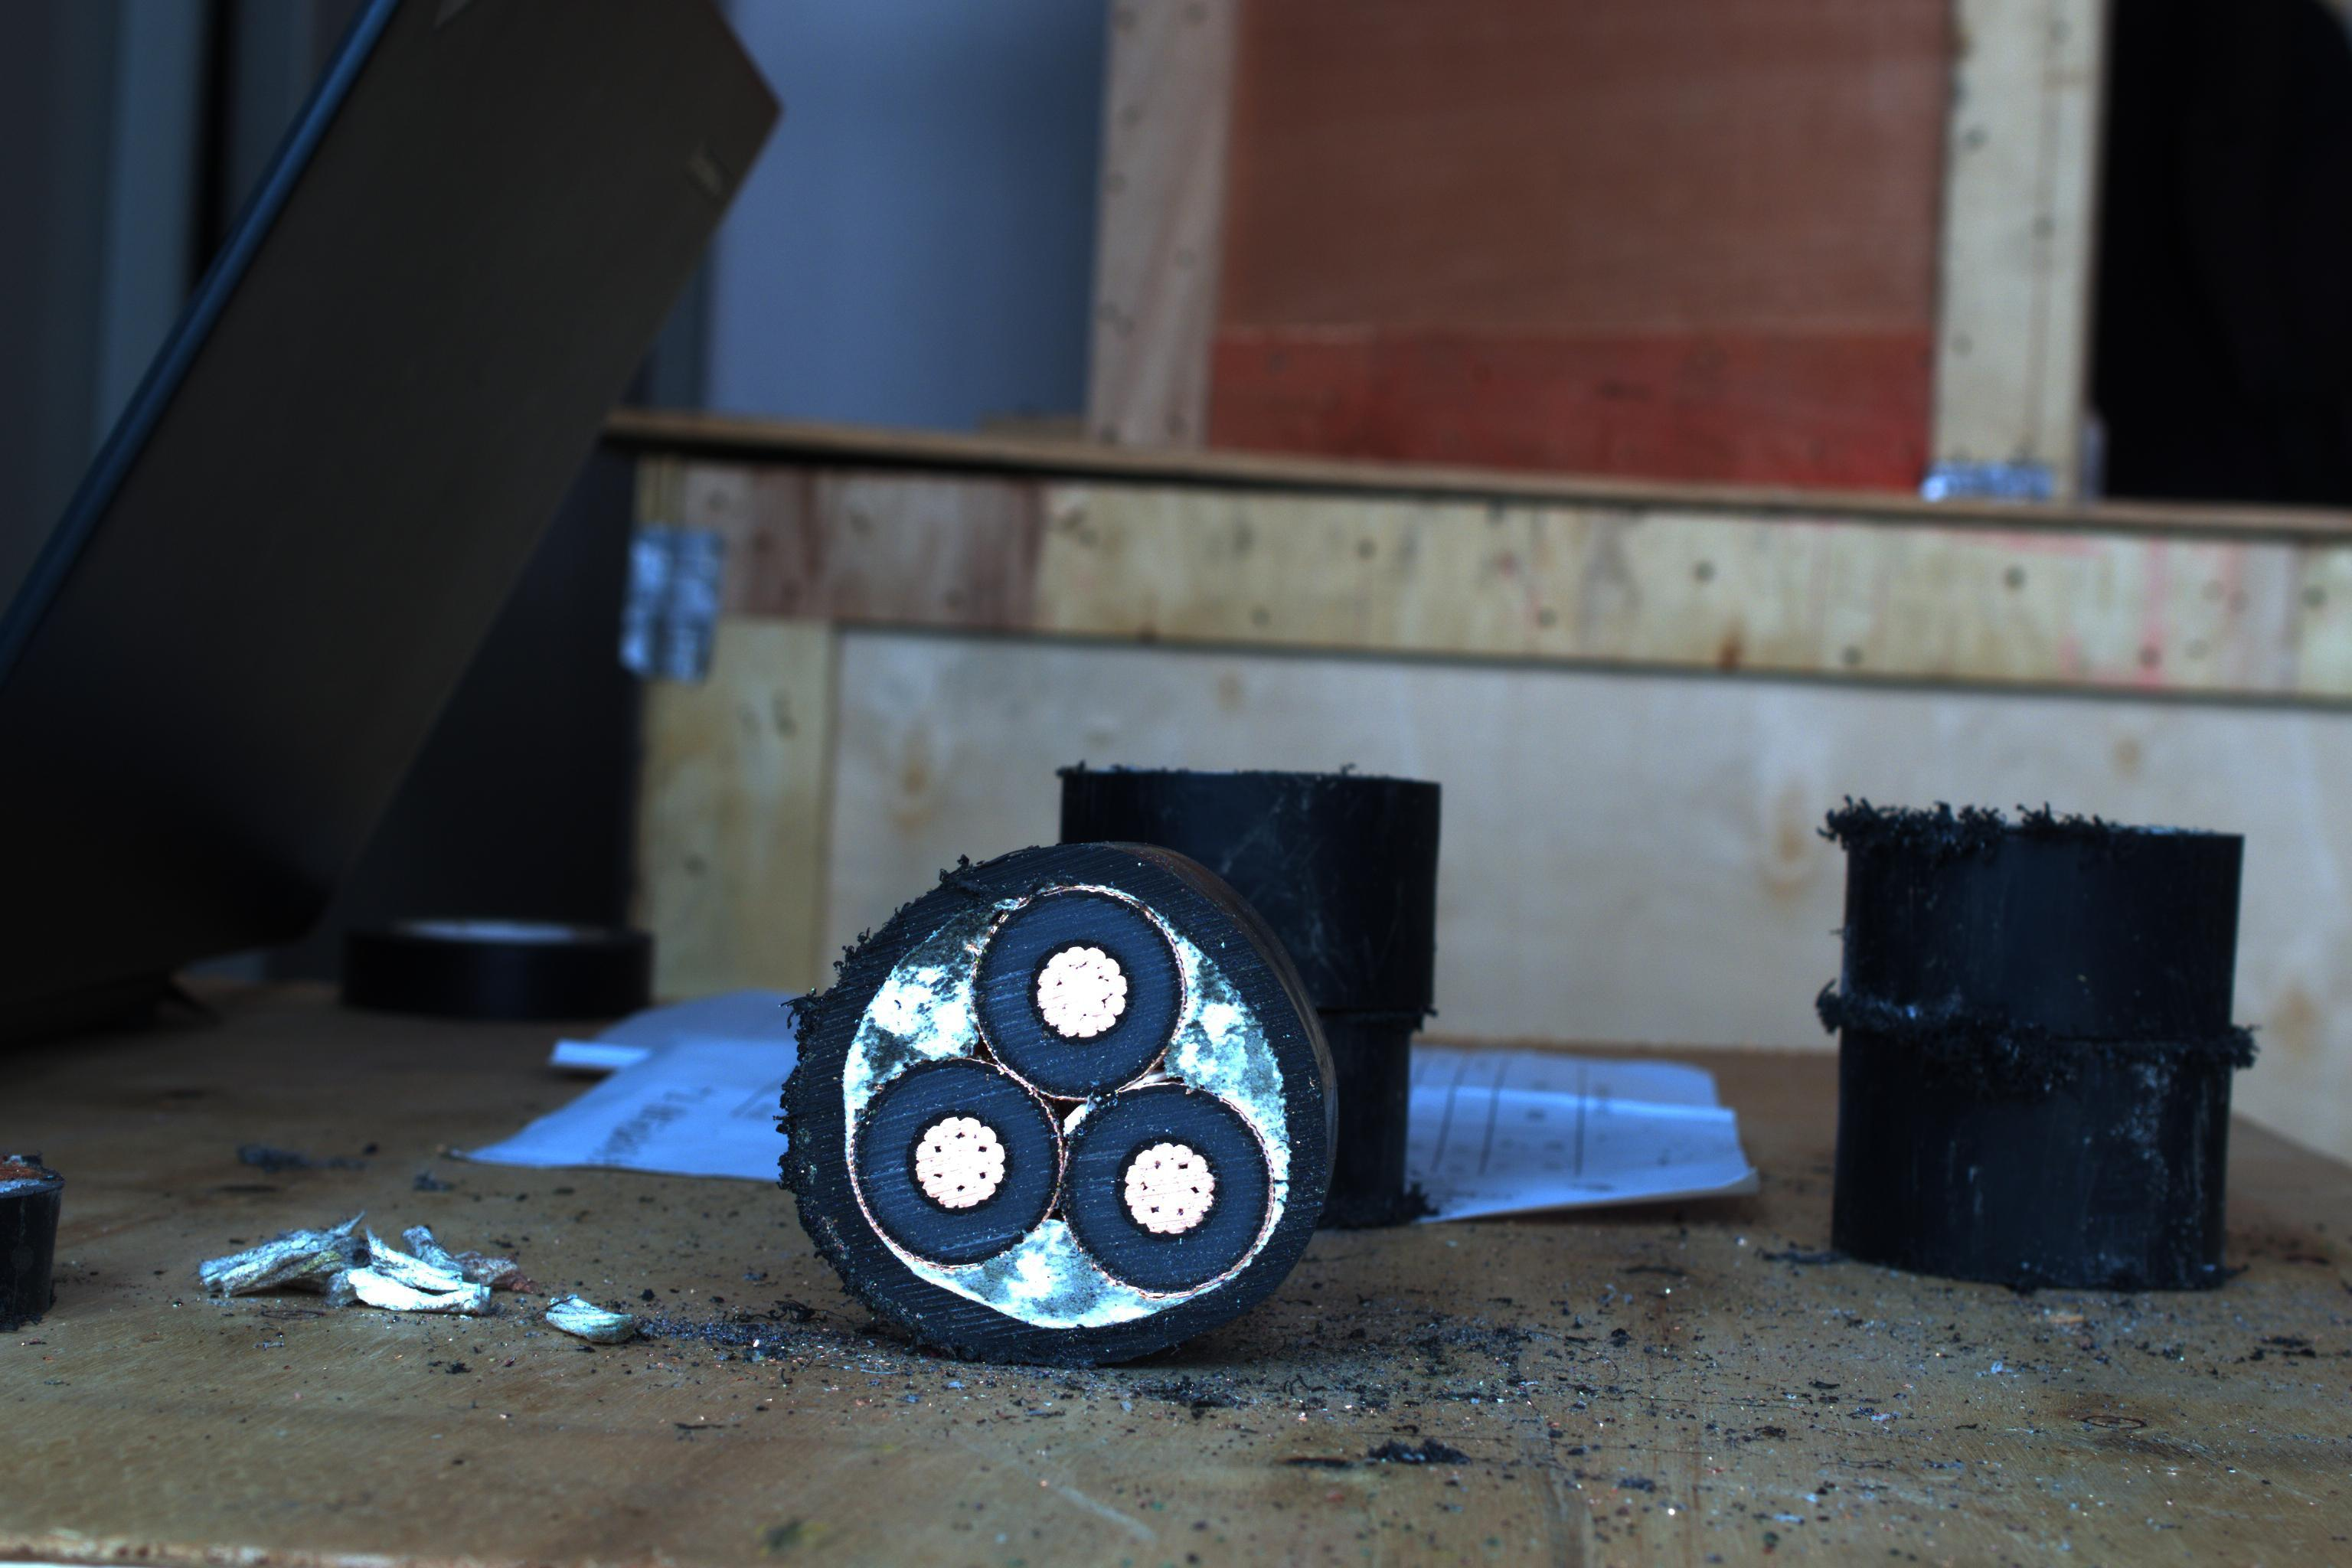YJV_8.7_10kV_3x70: (800, 871, 1335, 1340)
